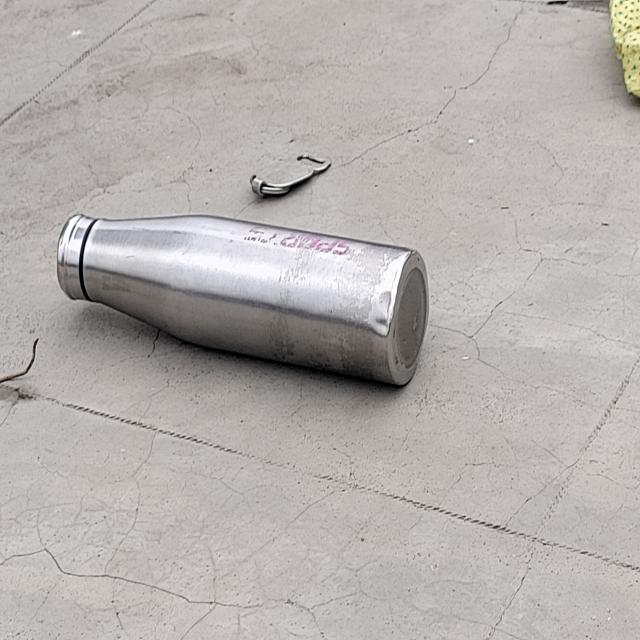metal: (54, 214, 429, 392), (241, 150, 332, 197), (0, 333, 42, 390)
plastic: (607, 0, 640, 98)
